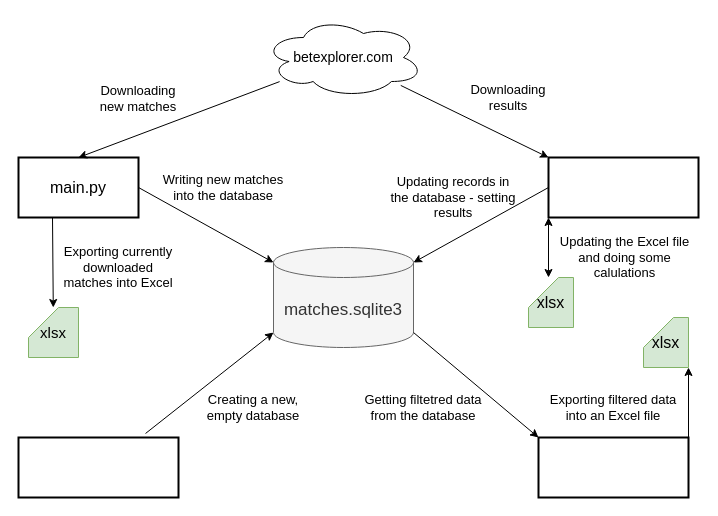
The diagram is 718 pixels wide and 516 high, and some of its shapes have lost their labels. Here are the shapes that lost their labels. From the top down, the box of each, then its label:
(547, 156, 699, 218): search_results.py
(17, 436, 179, 498): create_database.py
(537, 436, 689, 498): daily_report.py
